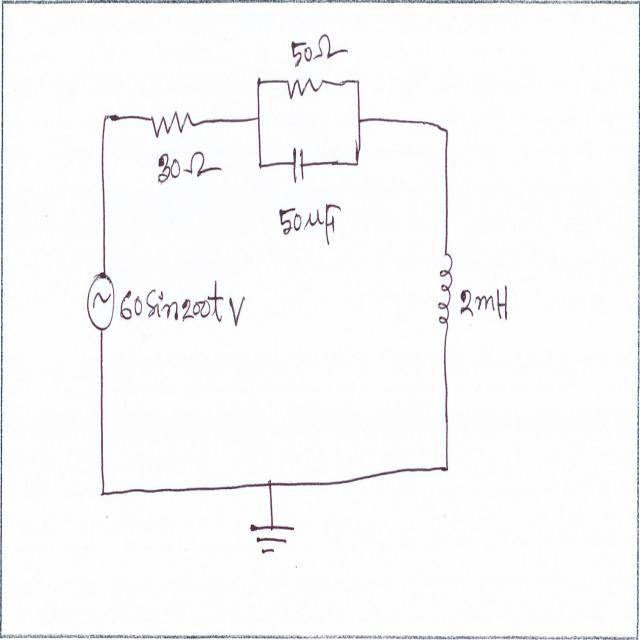ac_current: (86, 264, 117, 334)
capacitor: (290, 145, 308, 185)
ground: (247, 515, 295, 559)
inductor: (435, 239, 453, 332)
resistor: (146, 102, 194, 142), (284, 72, 326, 106)
